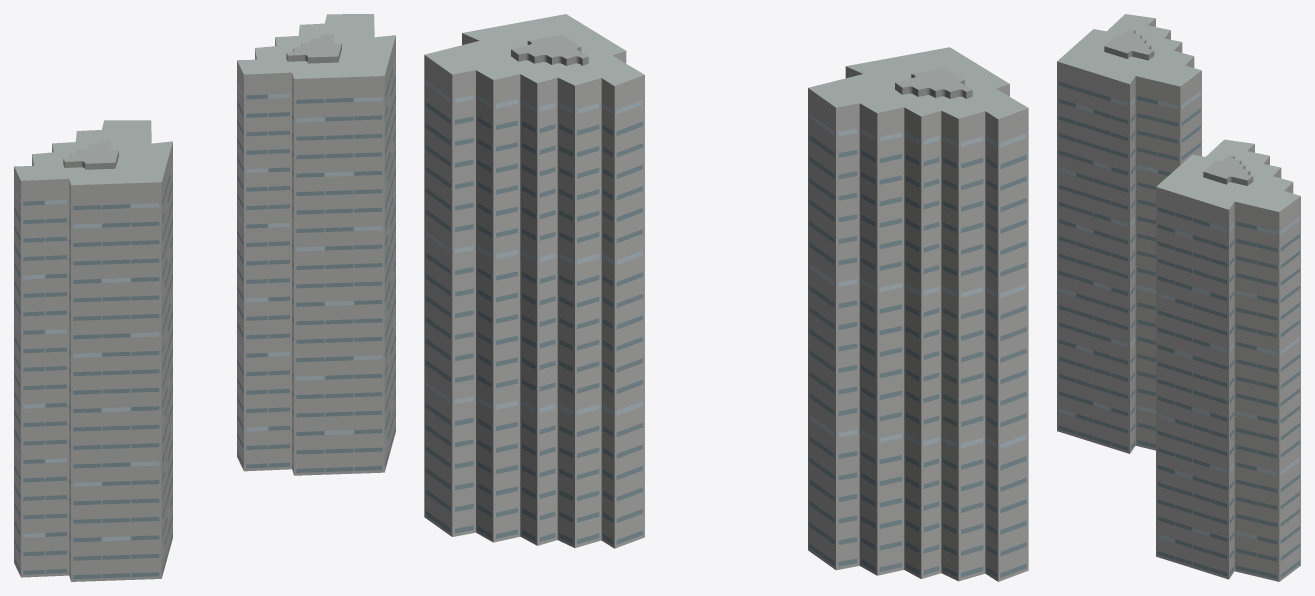
Rendered from apt-a13122002.glb.
3 renders of one model, left to right at view 1: azimuth 30°, elevation 25°; view 2: azimuth 150°, elevation 25°; view 3: azimuth 270°, elevation 25°, orthographic. The views are drawn at different scales.
Visible parts, largest first — view 1: apt-a13122002; view 2: apt-a13122002; view 3: apt-a13122002.
Boxes of the visible parts, <box> form: apt-a13122002: <box>14,14,395,581</box>; apt-a13122002: <box>424,14,1028,581</box>; apt-a13122002: <box>1057,14,1300,581</box>.
Size of the model in its own units: 180 by 159 by 93.6.
